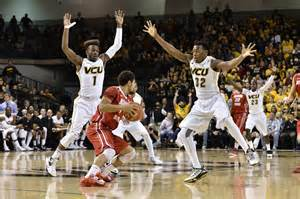basketball: (124, 102, 143, 122)
